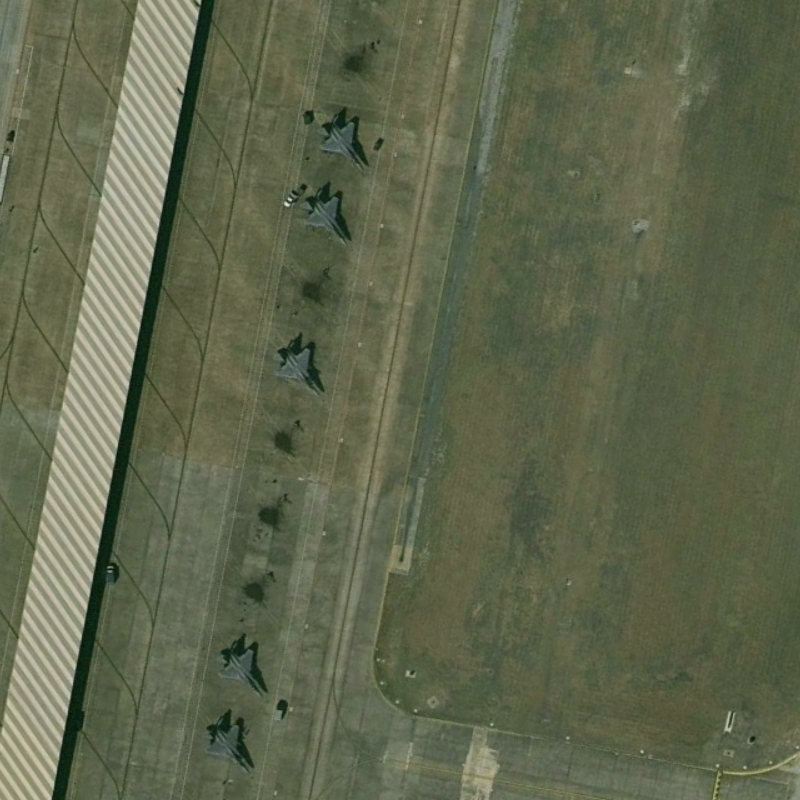A13: (200, 715, 258, 780), (268, 337, 325, 401), (213, 640, 267, 703), (297, 188, 350, 249), (316, 114, 368, 173)
